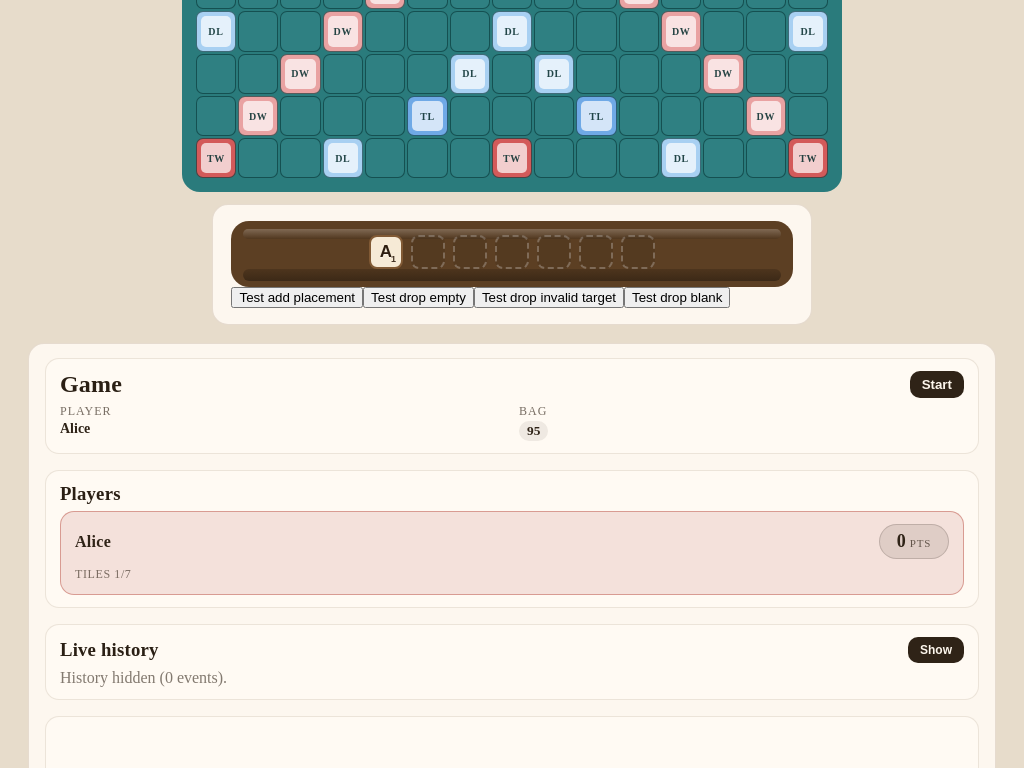
Game › shows error when start game fails
(page scrolled)
Click the button "Start". click: (937, 385)
box: top-left (910, 372), bottom-right (964, 398)
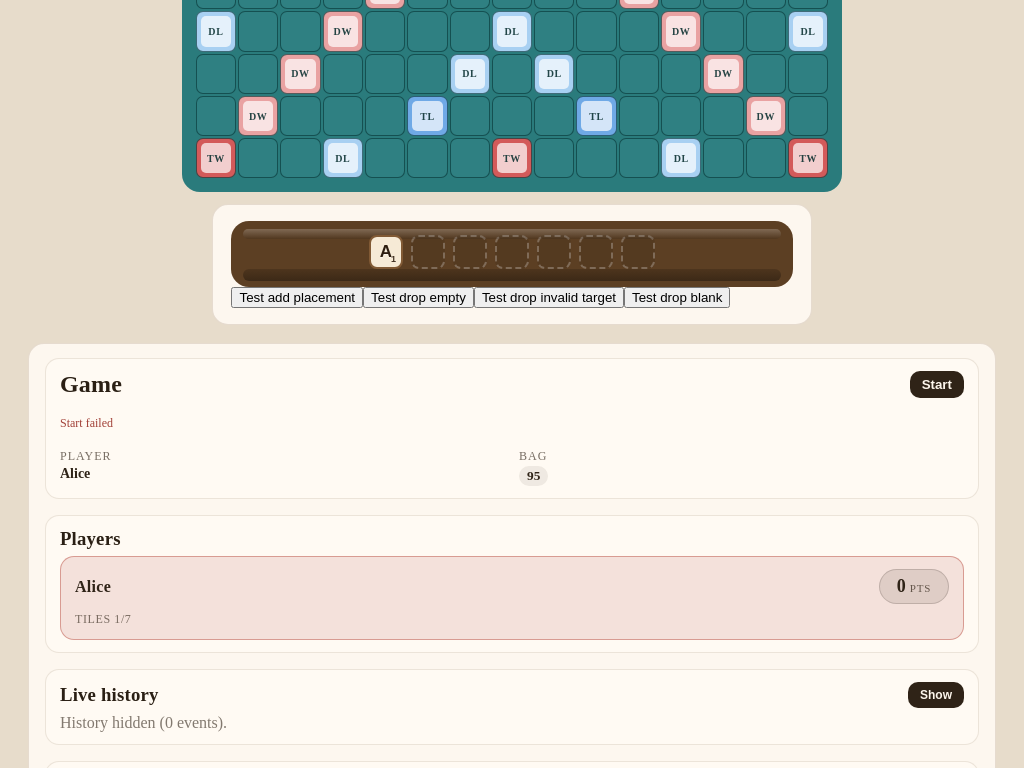
Now the text "Start failed" is shown, box top-left (60, 416), bottom-right (113, 430)
